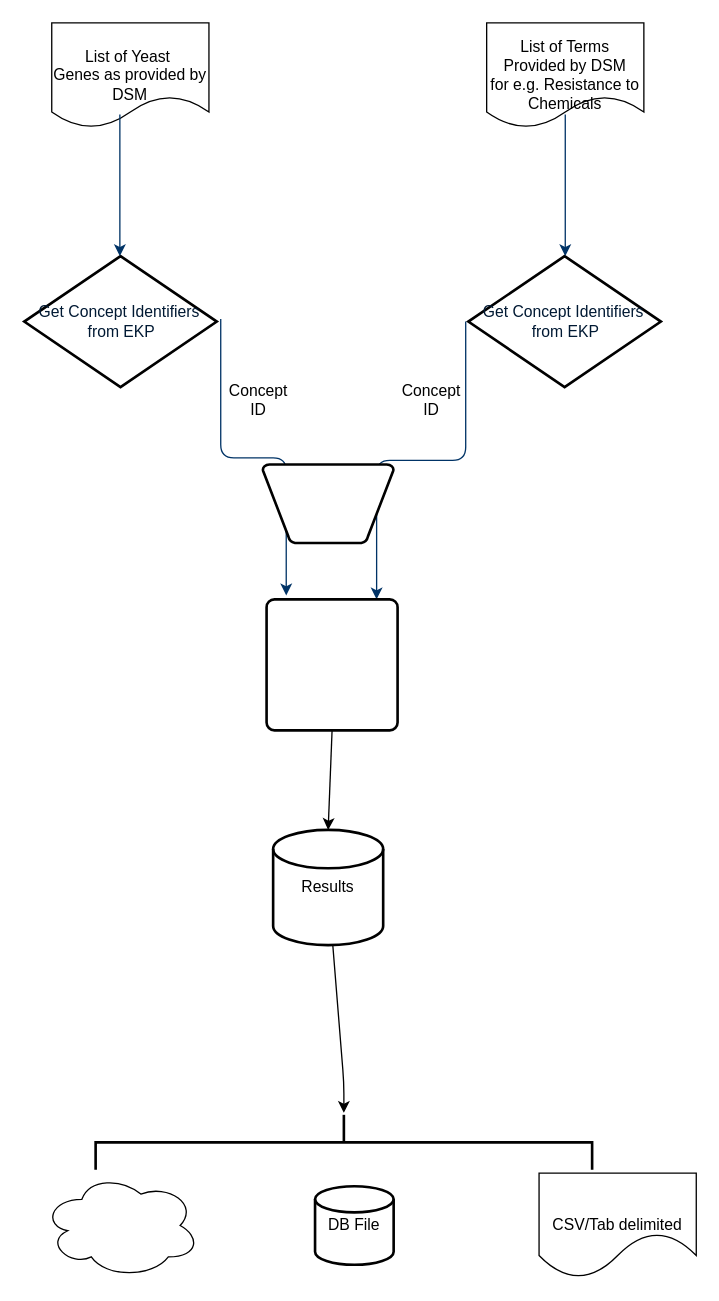
This 719x1301 diagram has some shape labels left out. The centre of each missing label's shape, as x and y in pixels:
Get Indirect Relations from EKP: point 331,664
Linked data (RDF): point 120,1225
Select Setting: point 327,503
